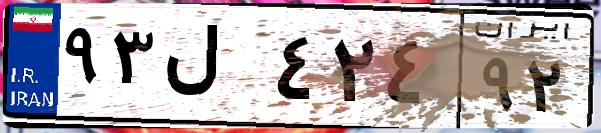2: (330, 28, 385, 110), (525, 38, 570, 115)
3: (110, 28, 158, 98)
4: (270, 28, 330, 110), (385, 28, 445, 110)
9: (57, 26, 110, 100), (475, 38, 525, 113)
ل: (158, 20, 270, 120)
